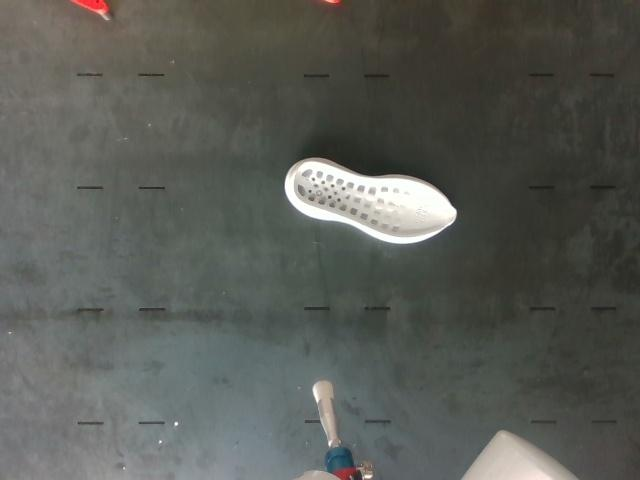shoes: (294, 162, 455, 238)
